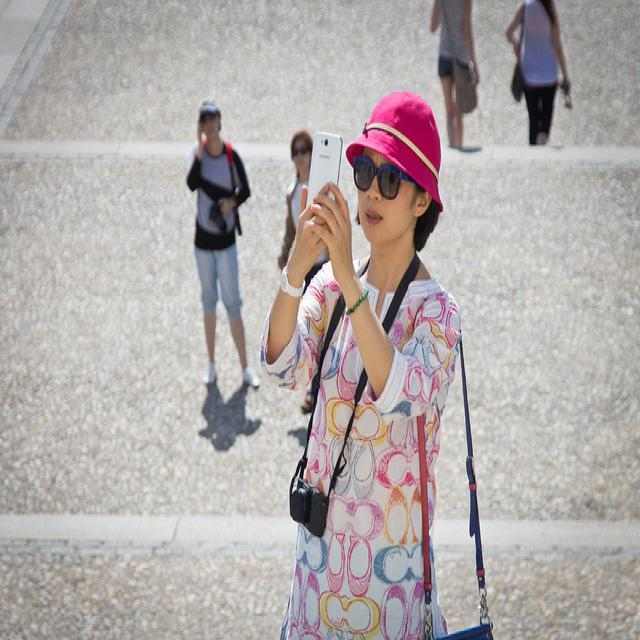phone: (303, 130, 343, 241)
